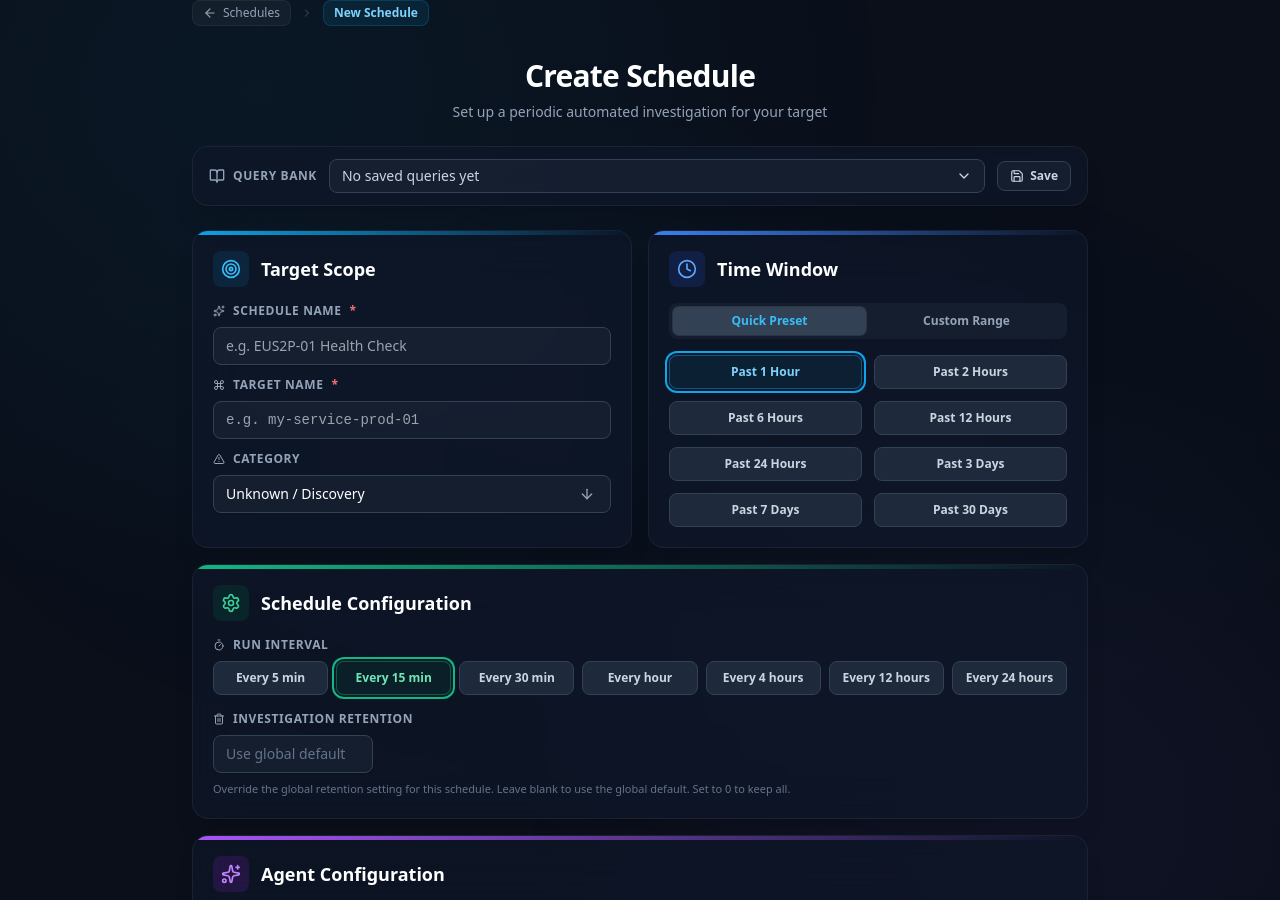
Test: ScheduleForm › Time Configuration - Custom Mode › toggles timezone mode between UTC and Local
Expected: the heading "Create Schedule" is shown, [525, 55, 755, 96]
Click the button "Custom Range" at (966, 321), box [870, 307, 1063, 335]
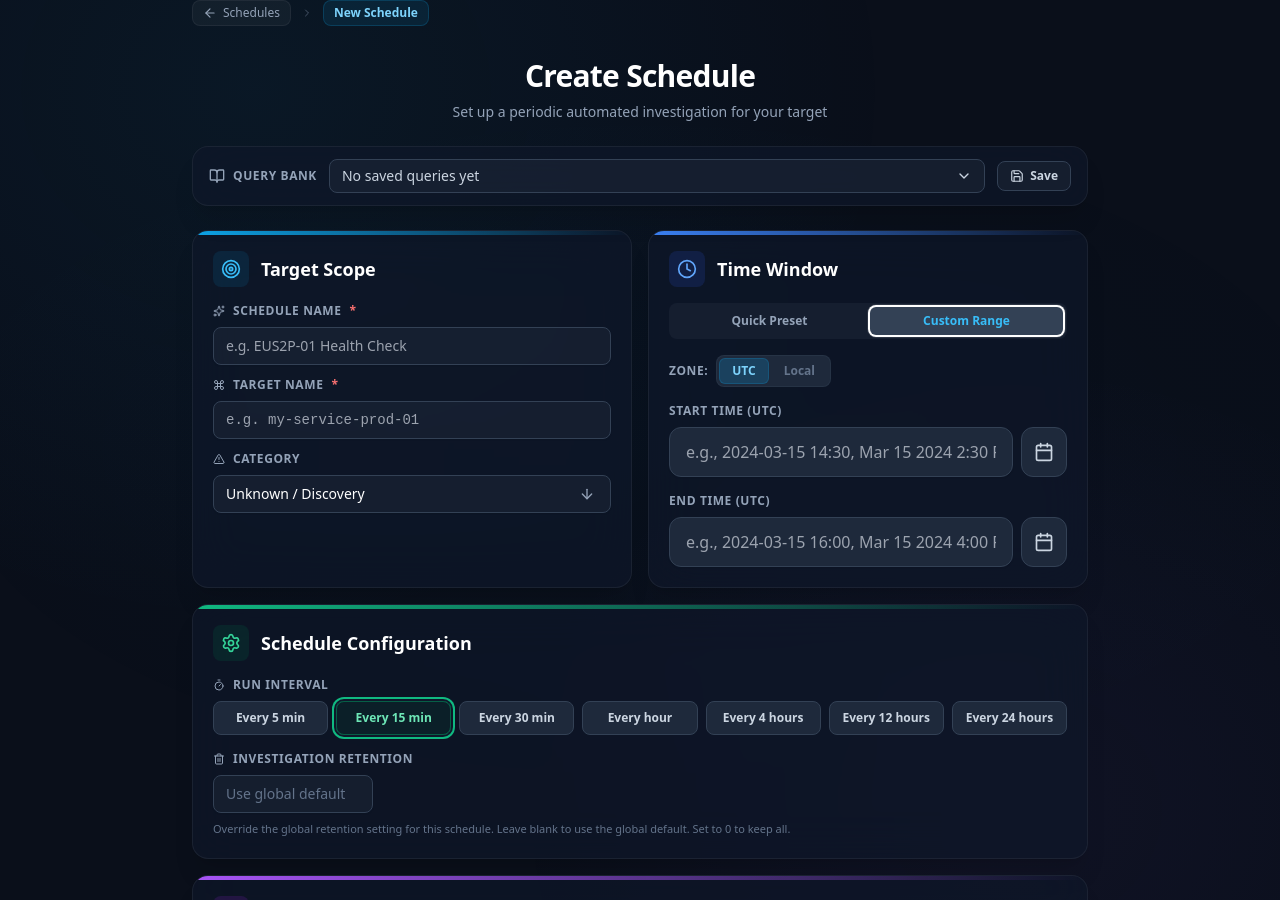
Now the text "Start Time (UTC)" is shown, box [669, 402, 782, 419]
Switch to Local
Click the button "Local" at (799, 371), box [771, 358, 828, 384]
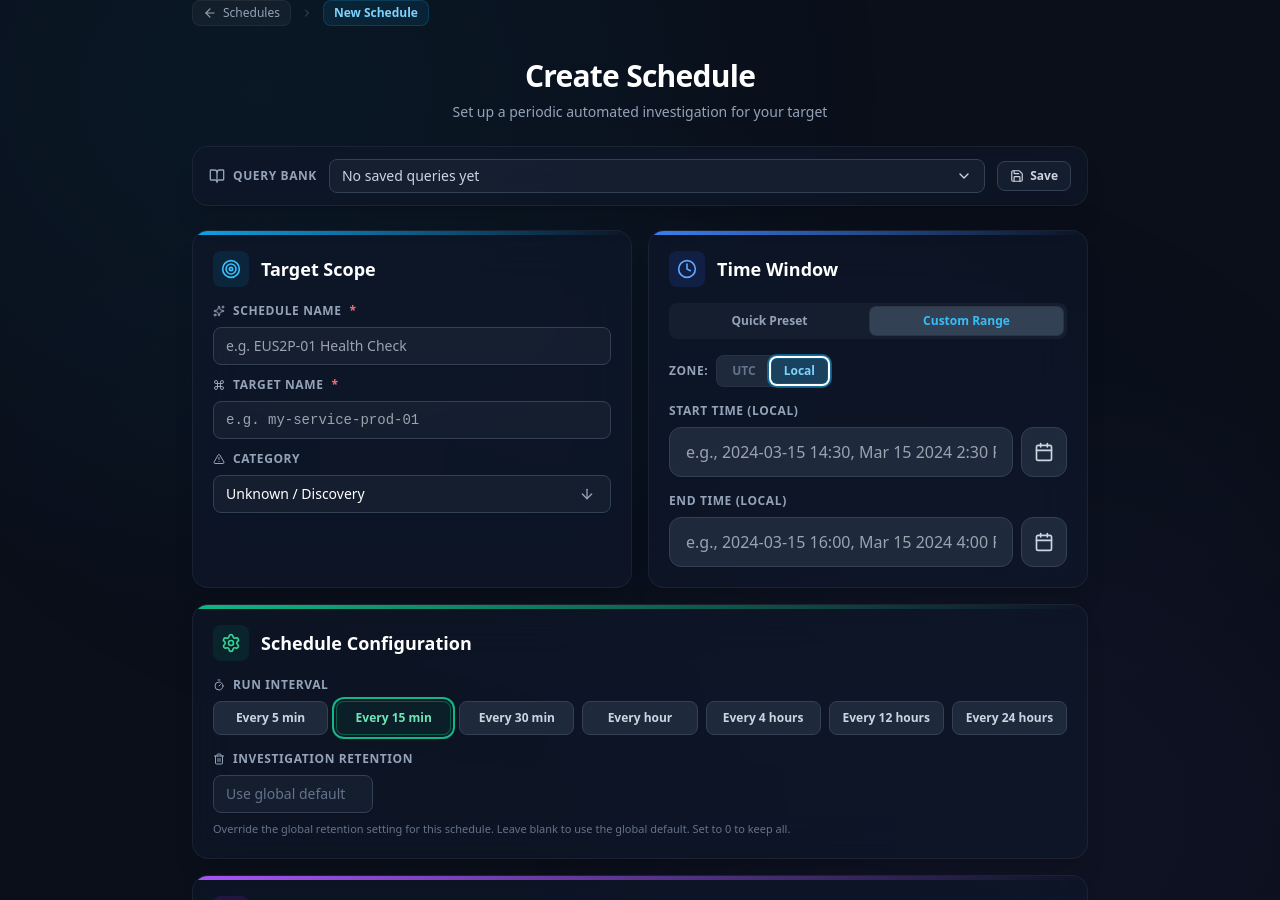
Now the text "Start Time (Local)" is shown, box [669, 402, 798, 419]
Switch back to UTC
Click the button "UTC" at (744, 371), box [719, 358, 769, 384]
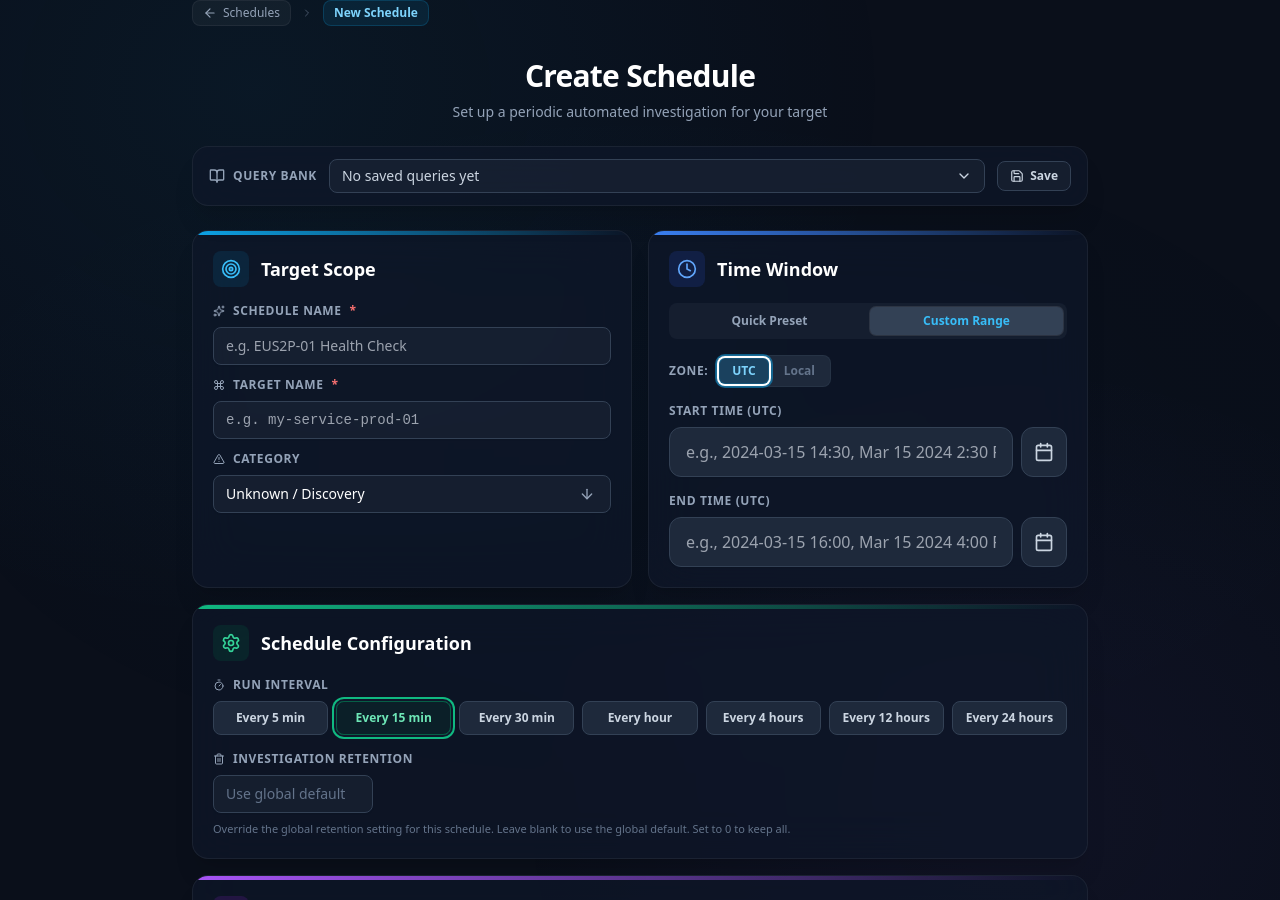
Now the text "Start Time (UTC)" is shown, box [669, 402, 782, 419]
